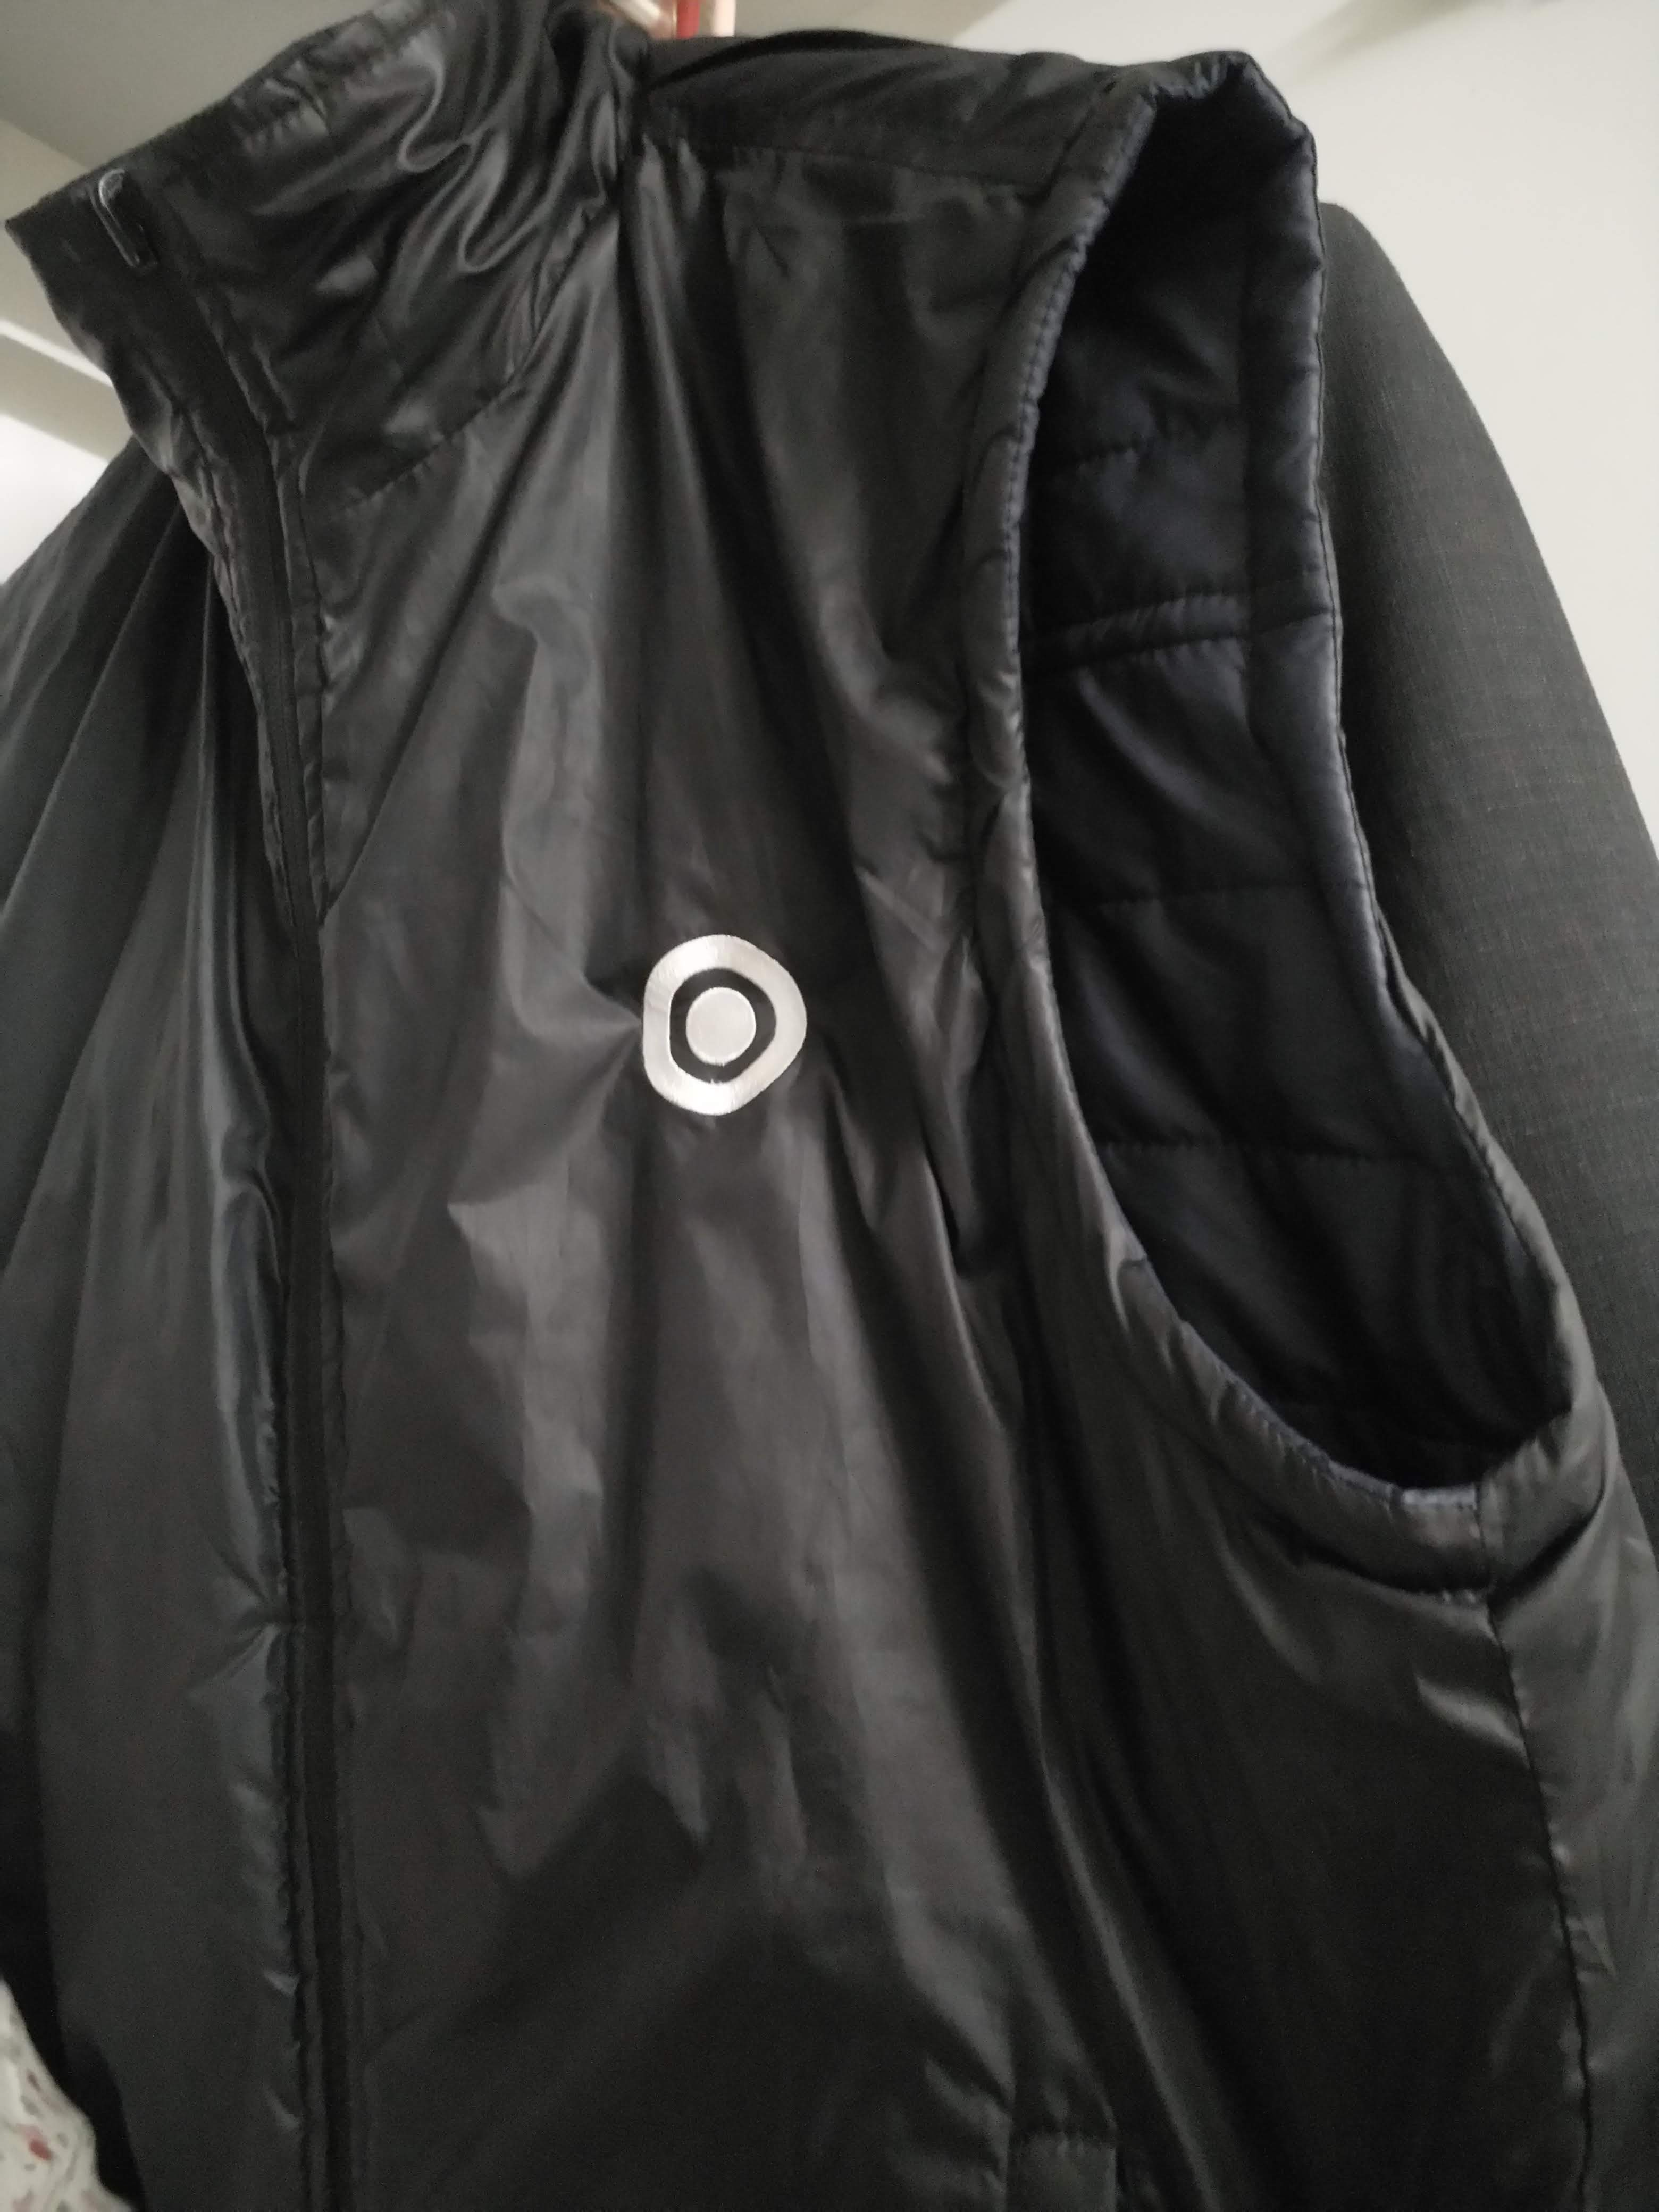bullseye: (633, 927, 816, 1122)
